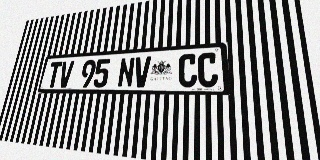5: (93, 59, 110, 87)
9: (79, 59, 97, 87)
C: (198, 52, 218, 87), (178, 53, 197, 87)
N: (117, 57, 135, 87)
T: (46, 61, 63, 88)
V: (133, 56, 151, 87), (58, 61, 74, 88)
